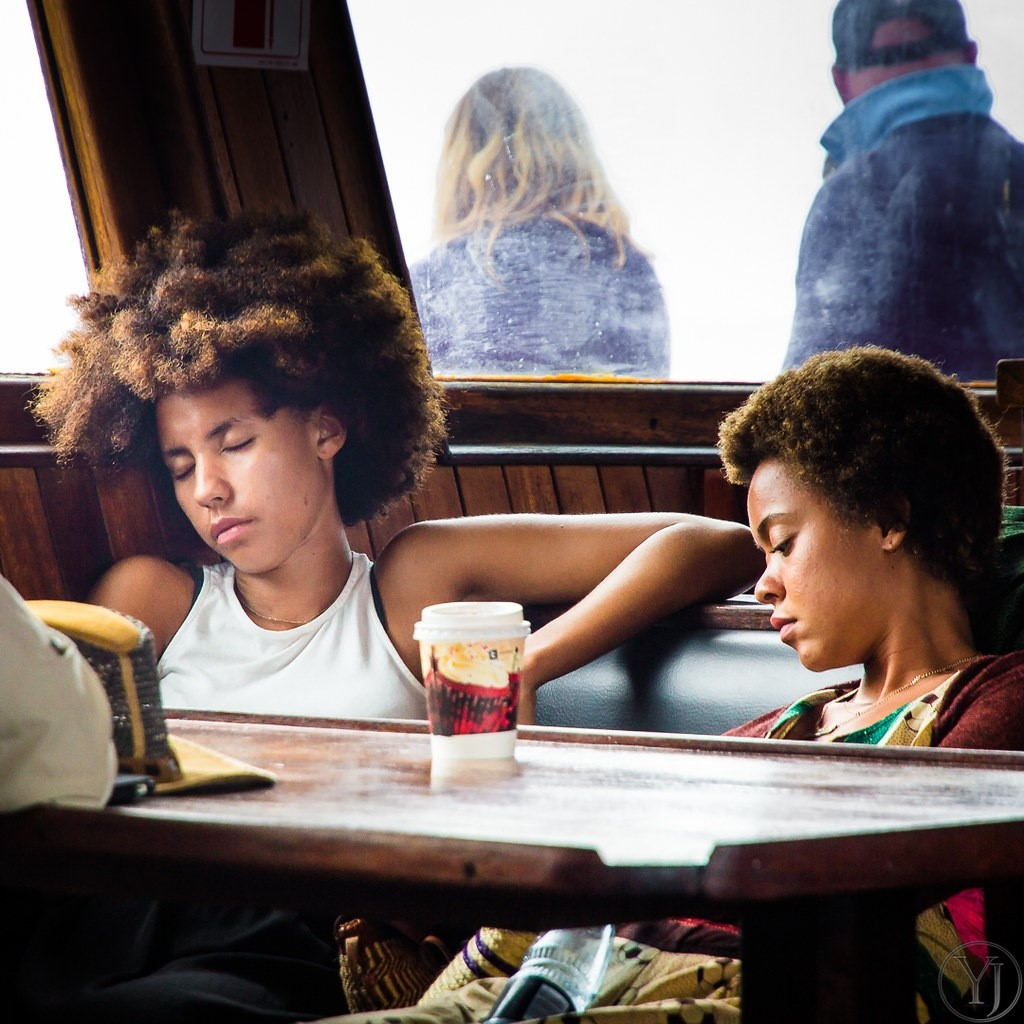face_no_mask: (718, 348, 999, 671), (145, 277, 375, 578)
